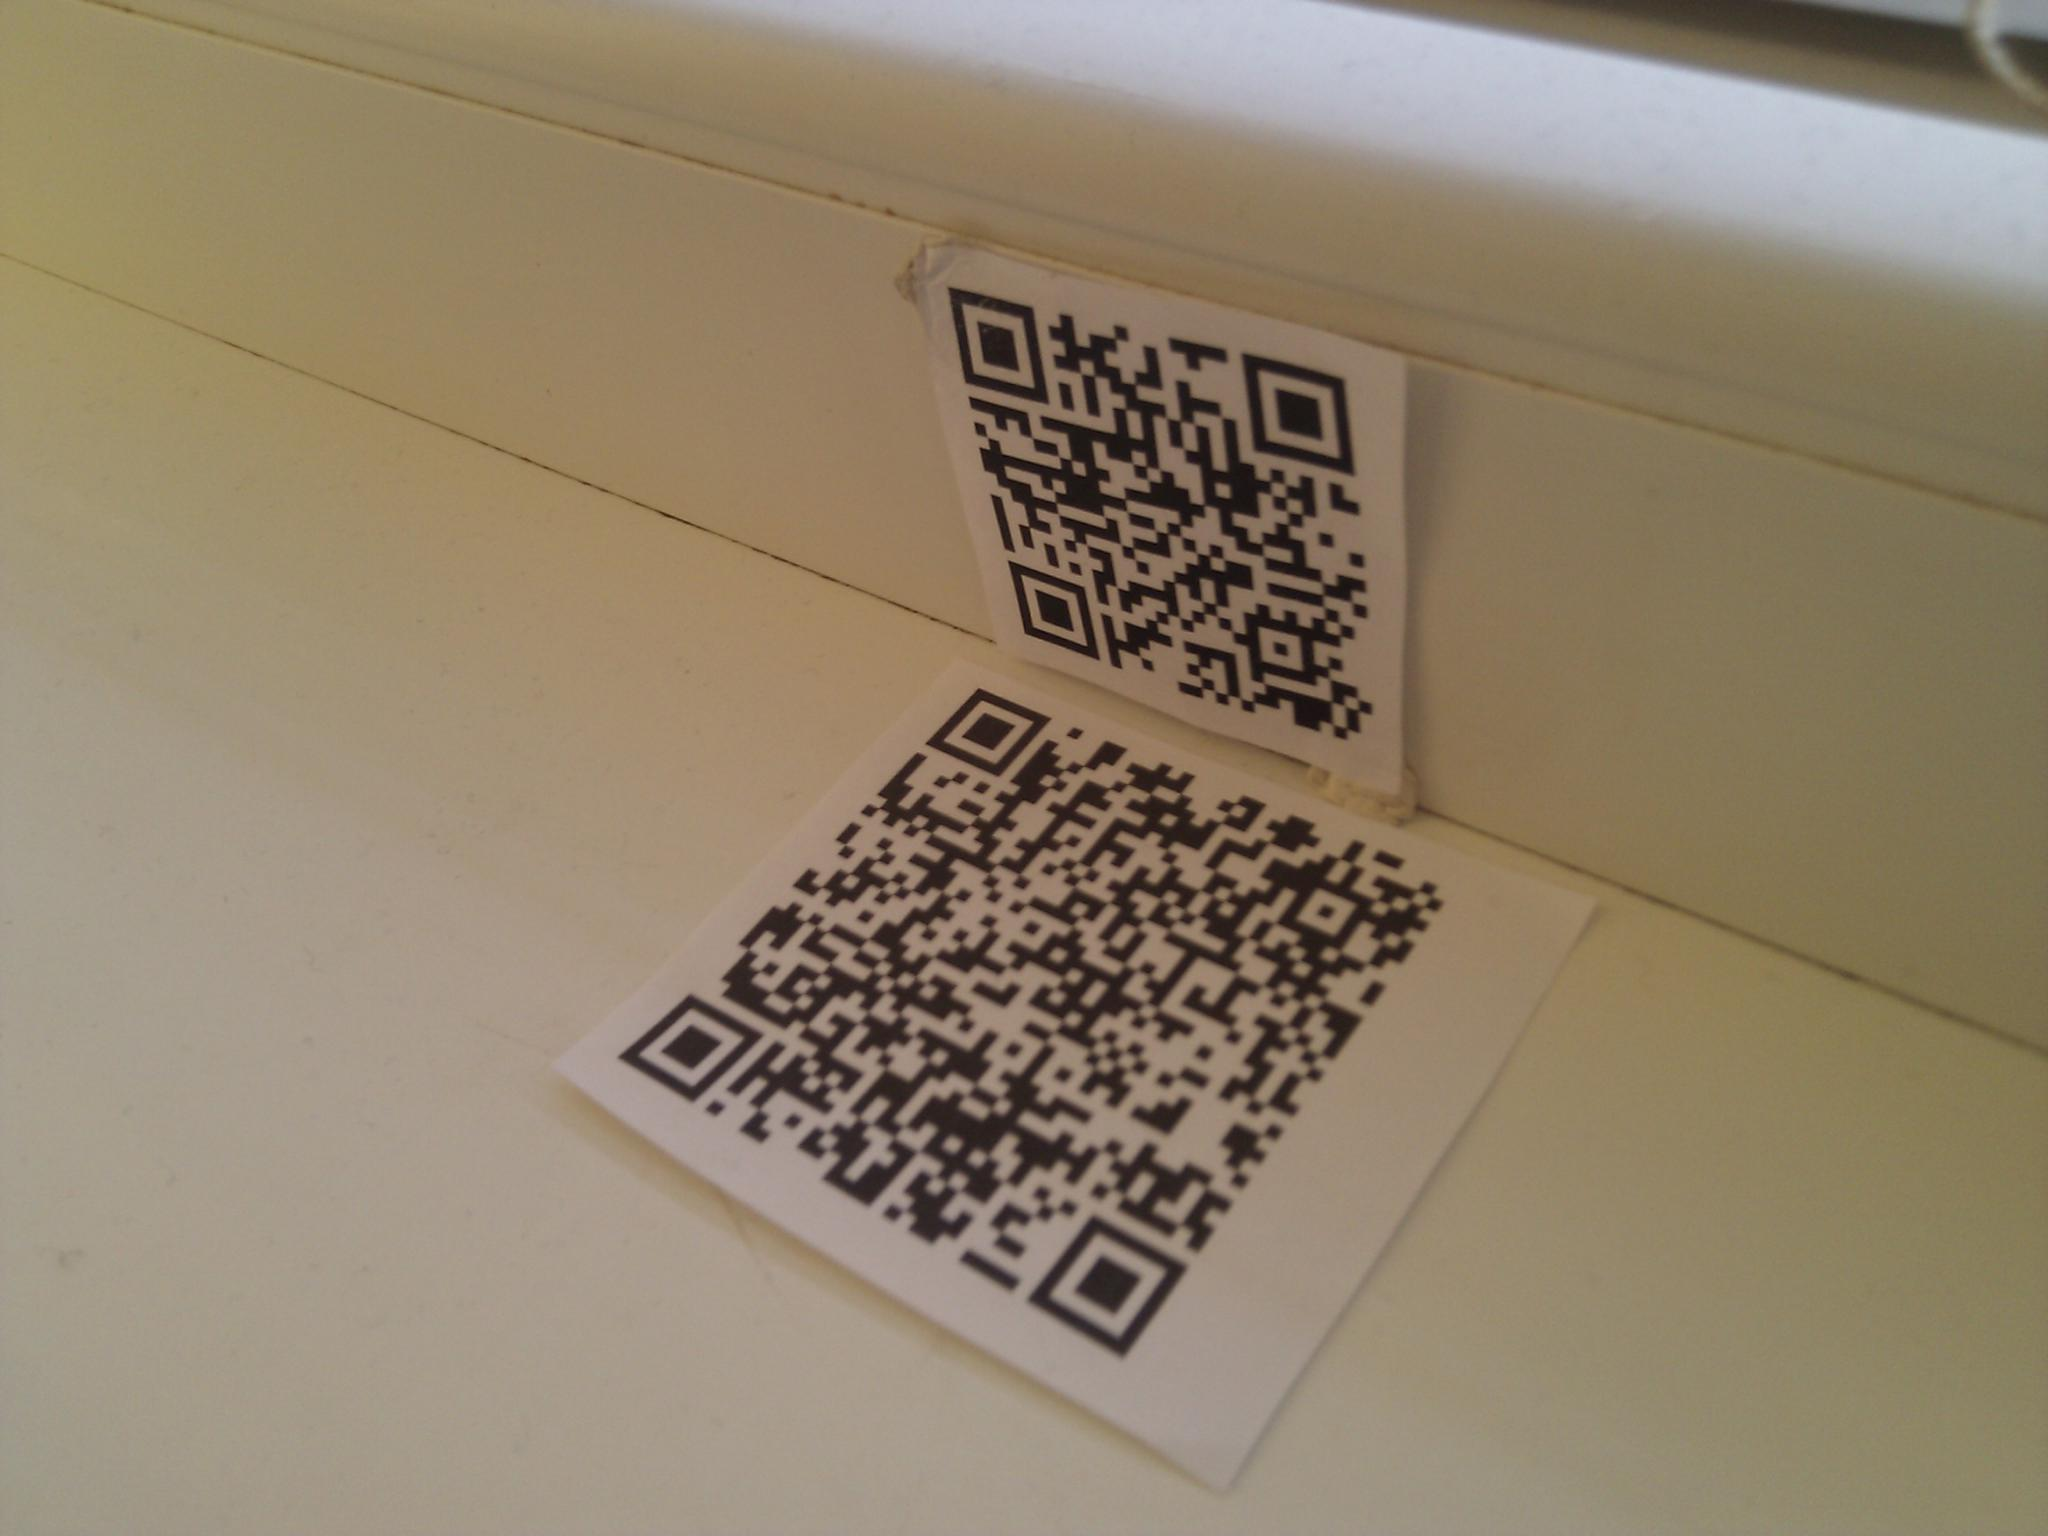qr_code: (616, 686, 1447, 1360), (947, 287, 1374, 742)
